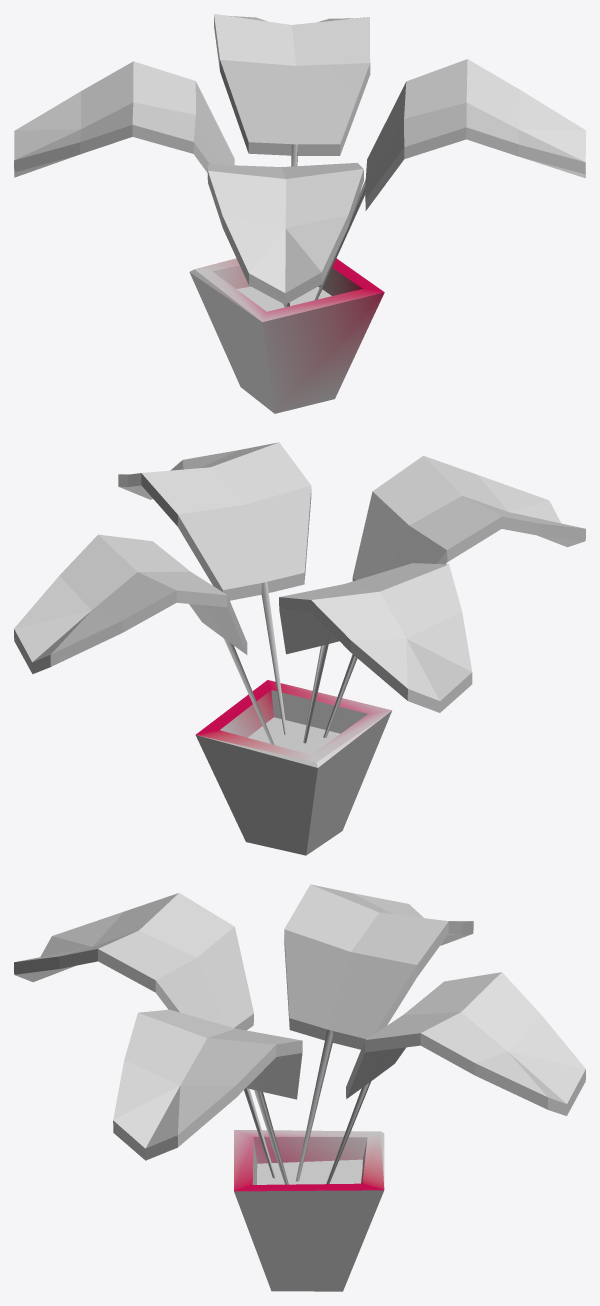
Rendered from PAEA01_TechRoom_Props_PlantFlower_01a.glb.
The picture shows the model from 3 angles, top to bottom: view 1: azimuth 30°, elevation 25°; view 2: azimuth 150°, elevation 25°; view 3: azimuth 270°, elevation 25°; orthographic projection. The views are drawn at different scales.
Parts seen in each view (by area): view 1: PAEA01_TechRoom_Props_PlantFlower_01a; view 2: PAEA01_TechRoom_Props_PlantFlower_01a; view 3: PAEA01_TechRoom_Props_PlantFlower_01a.
Boxes of the visible parts, x1,y1,x2,y2 form: PAEA01_TechRoom_Props_PlantFlower_01a: [14, 14, 585, 413]; PAEA01_TechRoom_Props_PlantFlower_01a: [14, 442, 585, 855]; PAEA01_TechRoom_Props_PlantFlower_01a: [14, 884, 585, 1291].
Bounding box in the file's own units: 2.67 × 1.7 × 2.8.
